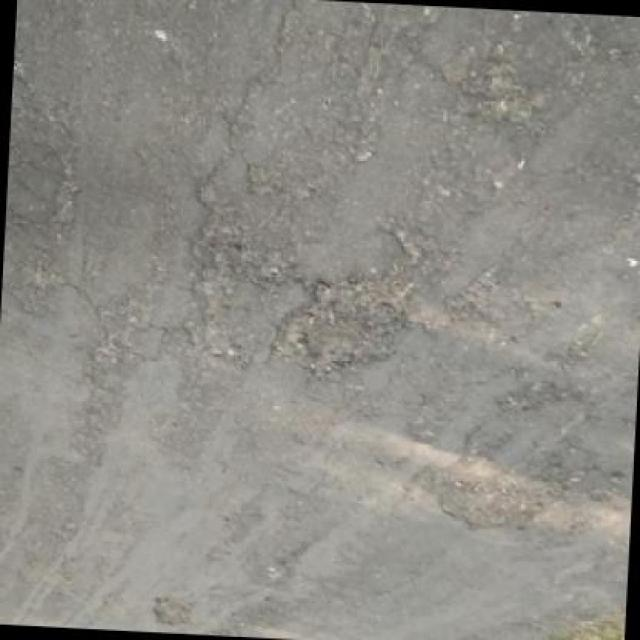pothole1: (281, 268, 422, 382), (434, 477, 548, 535), (148, 593, 198, 630)
